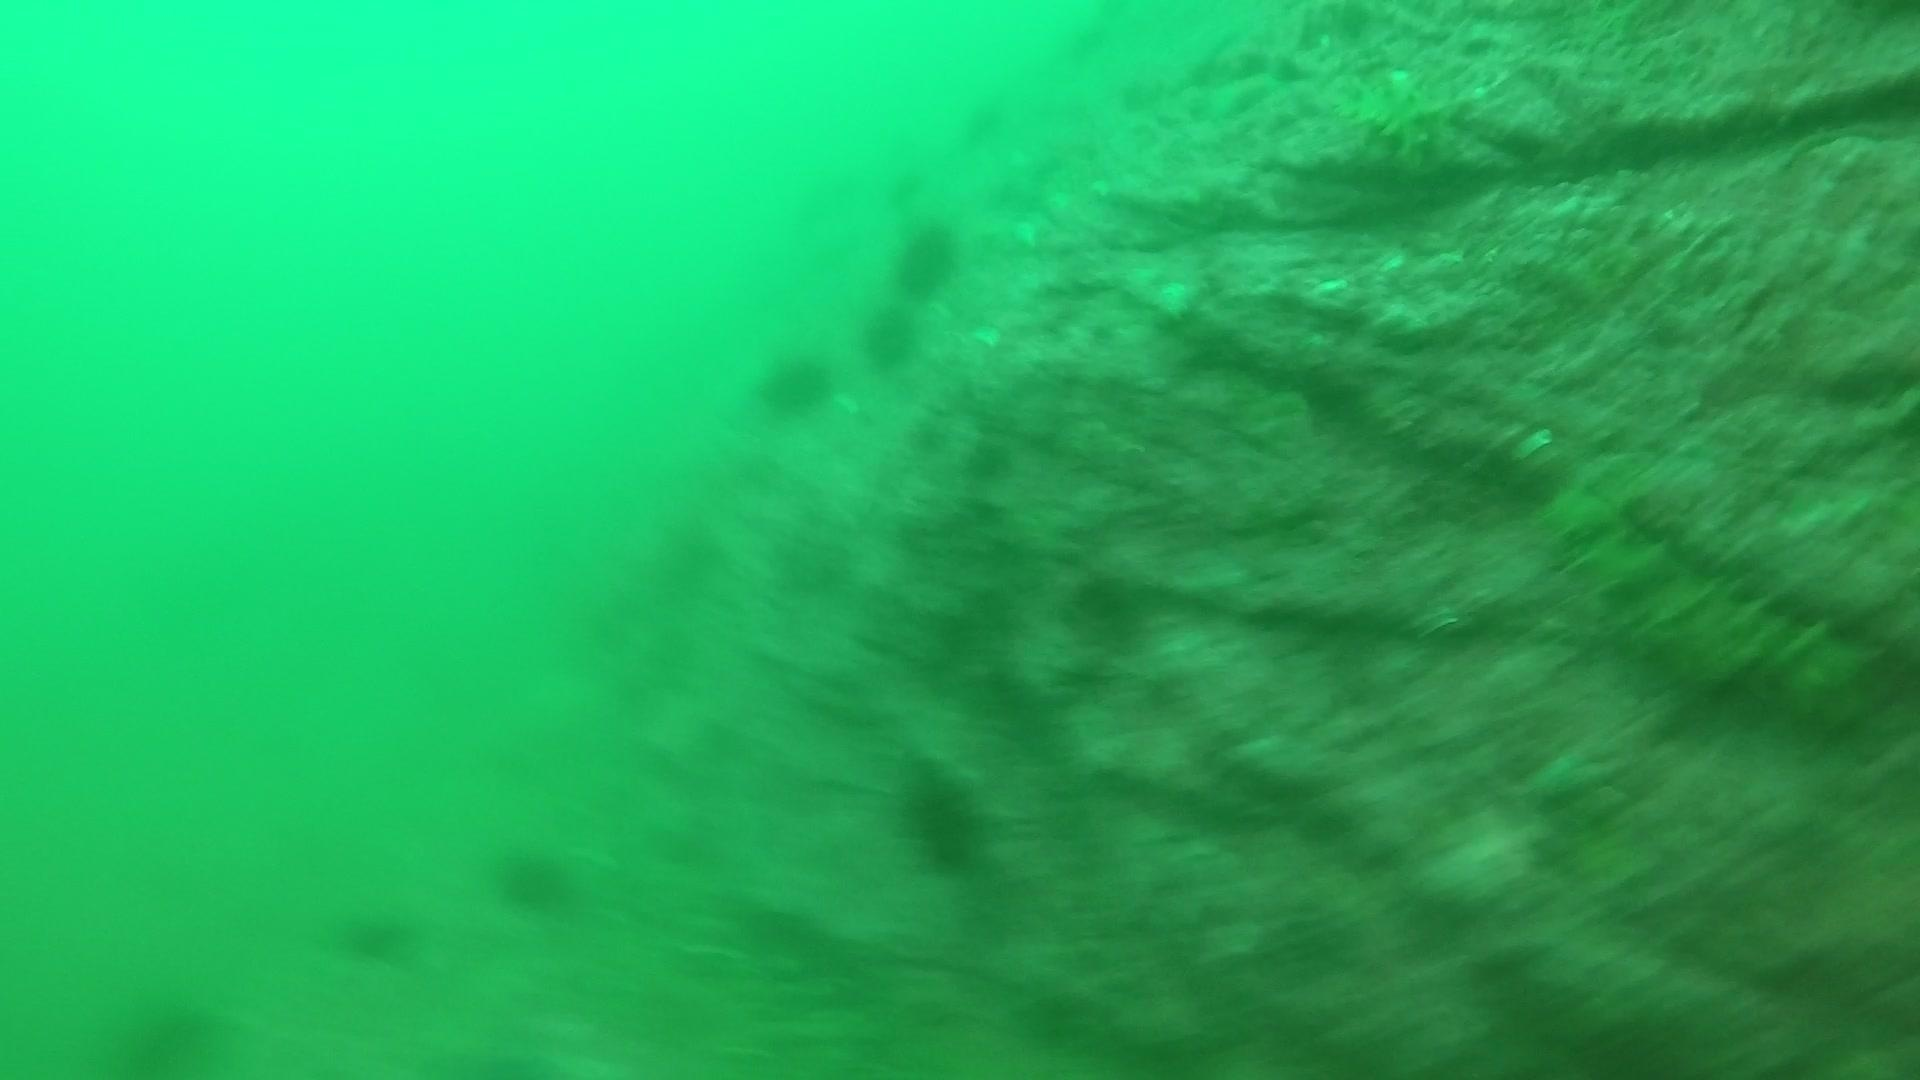echinus: (891, 760, 994, 877), (107, 986, 229, 1073), (489, 836, 582, 918), (750, 342, 839, 421), (885, 215, 965, 301), (330, 895, 419, 969), (855, 301, 926, 375)
holothurian: (1543, 471, 1892, 733)
